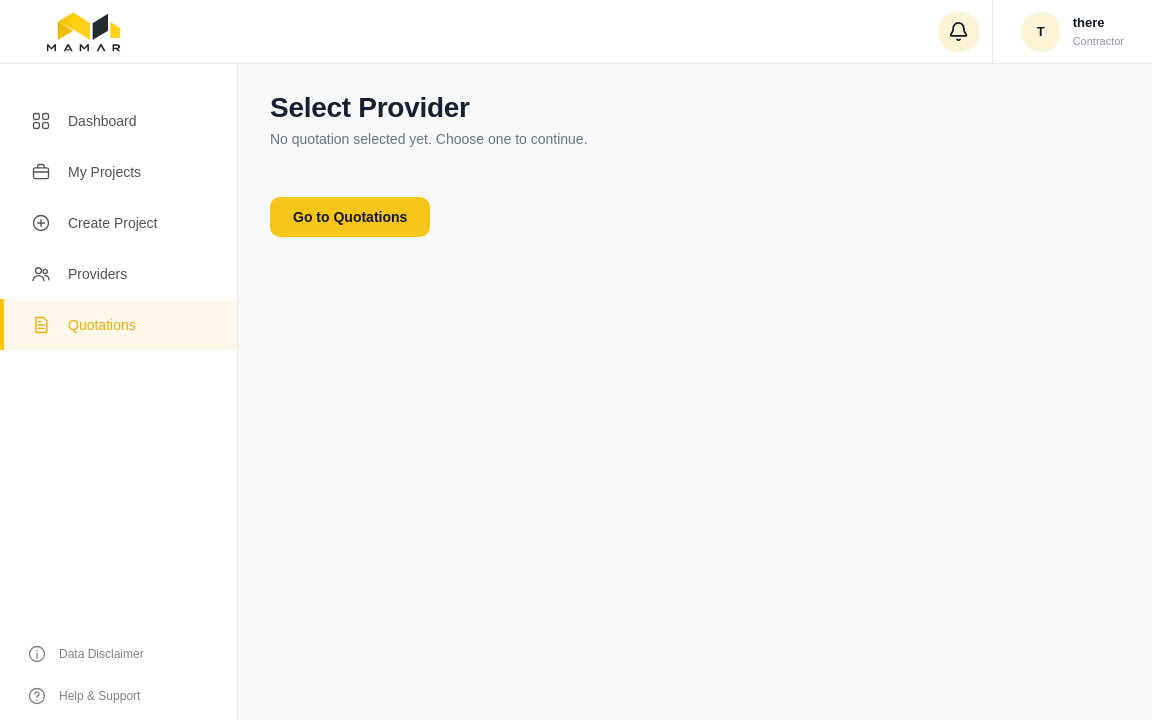
Test case: SelectProviderPage › بدون عرض مختار: يعرض الرسالة وزر الذهاب للعروض
The width and height of the screenshot is (1152, 720).
Expected: the text "No quotation selected yet. Choose one to continue." is shown, x1=270 y1=131 x2=588 y2=147
Step 1. Click the button "Go to Quotations" → (350, 217), box x1=270 y1=197 x2=430 y2=237
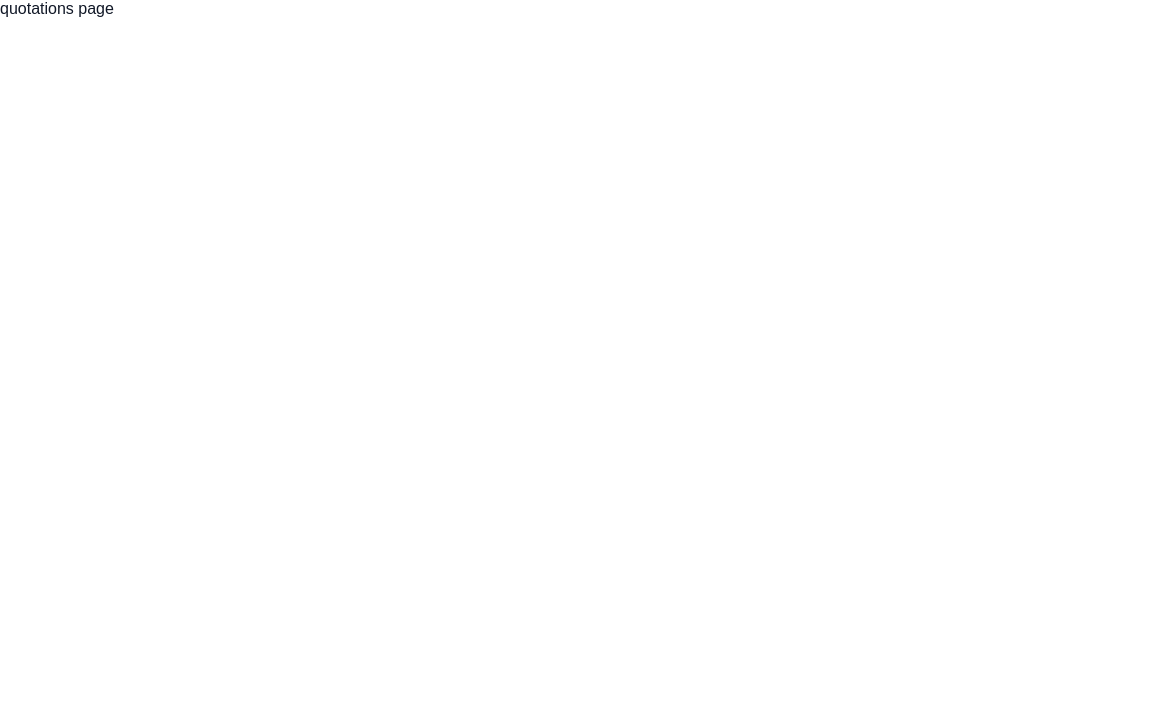
Now the text "quotations page" is shown, box x1=0 y1=0 x2=114 y2=17
